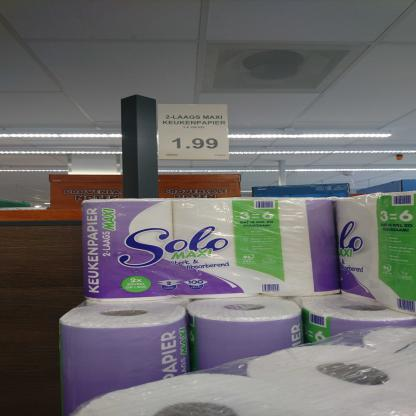prtg: (159, 104, 233, 161)
